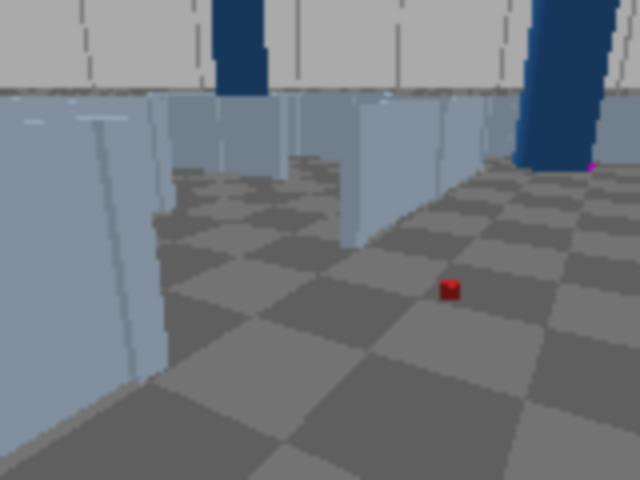puck: (439, 279, 460, 301)
